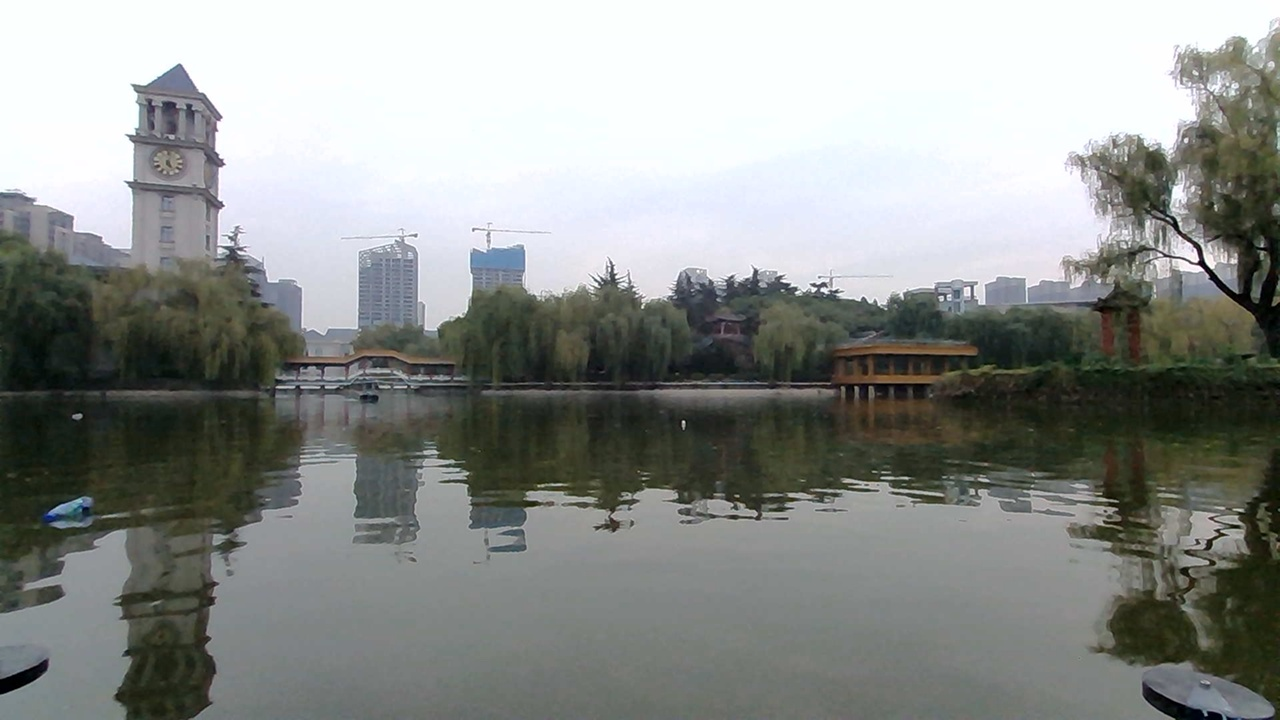bottle: (44, 494, 100, 531), (667, 406, 709, 435), (59, 399, 98, 424)
